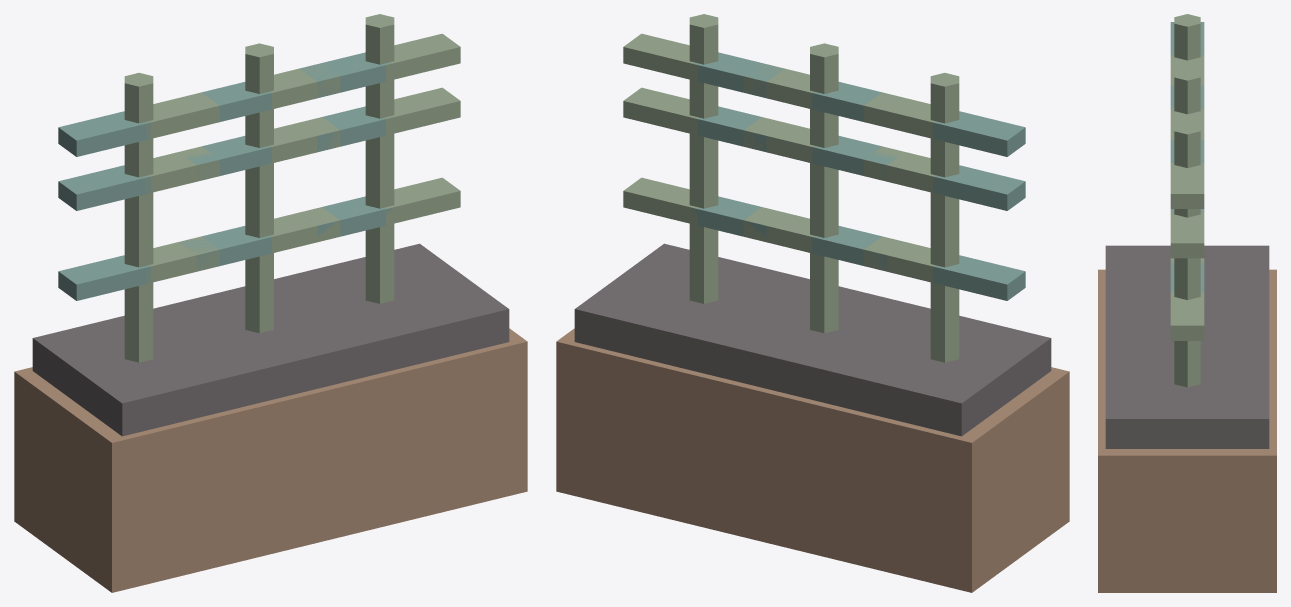
File: bamboo_planter_box.glb
3 views of the same model, side by side, from view 1: azimuth 30°, elevation 25°; view 2: azimuth 150°, elevation 25°; view 3: azimuth 270°, elevation 25° (orthographic). The views are drawn at different scales.
Visible parts, largest first — view 1: box_0, box_1, cylinder_2, cylinder_16, cylinder_9, box_5, box_7, box_3, box_20, box_18, box_8, box_22 (+11 smaller); view 2: box_0, box_1, cylinder_2, cylinder_16, cylinder_9, box_3, box_5, box_7, box_20, box_18, box_22, box_21 (+11 smaller); view 3: box_1, box_0, cylinder_16, box_20, box_18, box_22, cylinder_2, cylinder_9, box_15, box_8, box_7, box_17.
Part boxes in pixels (x1,y1,x2,y2): box_0: (14, 328, 527, 592); box_1: (32, 243, 509, 436); cylinder_2: (124, 73, 153, 362); cylinder_16: (365, 14, 394, 303); cylinder_9: (245, 43, 273, 333); box_5: (58, 165, 150, 210); box_7: (58, 111, 150, 156); box_3: (58, 255, 150, 300); box_20: (384, 87, 460, 135); box_18: (384, 177, 460, 225); box_8: (145, 92, 219, 139); box_22: (386, 33, 460, 81); box_0: (556, 328, 1069, 592); box_1: (574, 243, 1051, 436); cylinder_2: (930, 73, 959, 362); cylinder_16: (689, 14, 718, 303); cylinder_9: (810, 43, 838, 333); box_3: (933, 255, 1025, 300); box_5: (933, 165, 1025, 210); box_7: (933, 111, 1025, 156); box_20: (623, 87, 699, 135); box_18: (623, 177, 699, 225); box_22: (623, 33, 697, 81); box_21: (692, 52, 783, 97); box_1: (1105, 245, 1269, 448); box_0: (1098, 269, 1276, 592); cylinder_16: (1174, 121, 1200, 387); box_20: (1170, 210, 1204, 258); box_18: (1170, 292, 1204, 340); box_22: (1170, 163, 1204, 208); cylinder_2: (1174, 14, 1200, 60); cylinder_9: (1174, 68, 1200, 114); box_15: (1170, 106, 1204, 139); box_8: (1170, 52, 1204, 85); box_7: (1170, 22, 1204, 55); box_17: (1170, 261, 1204, 292).
Size of the model in its own units: 1.45 by 1.53 by 0.59.
